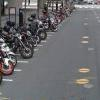Motorcycle: (4, 12, 46, 80)
